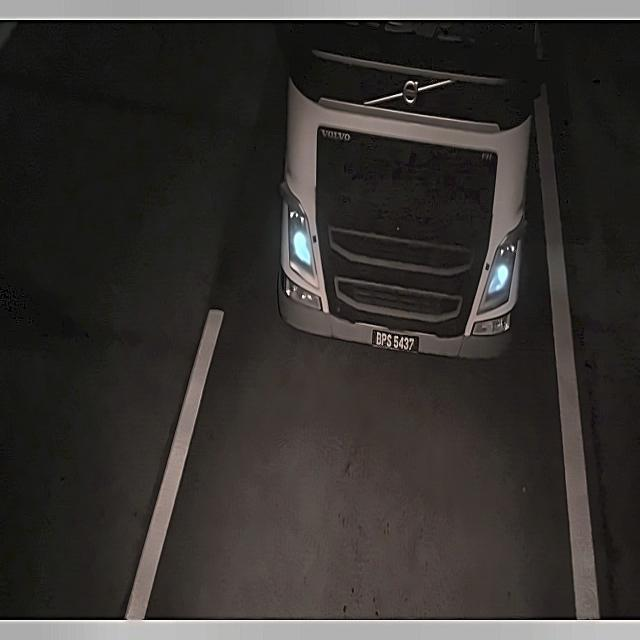car: (368, 328, 423, 362)
